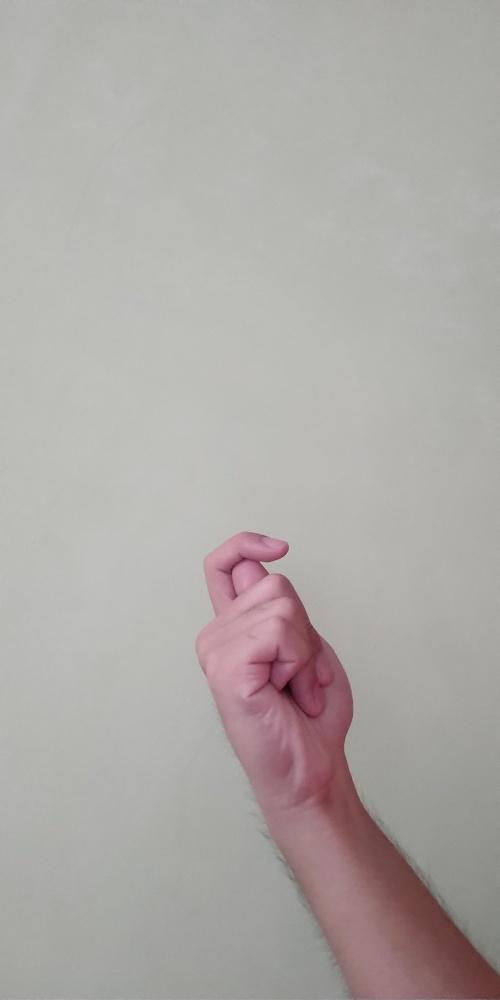t: (192, 528, 356, 809)
